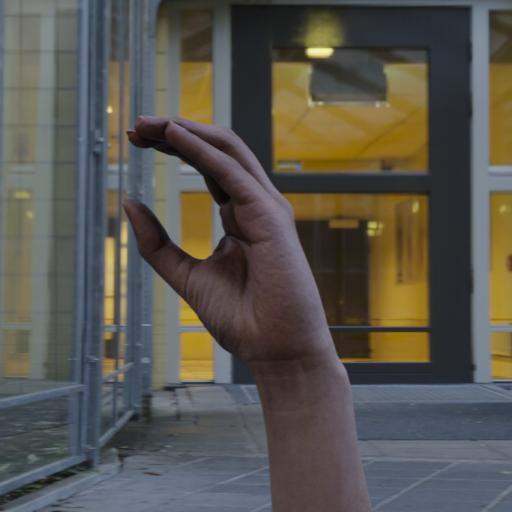C: (71, 90, 376, 400)
